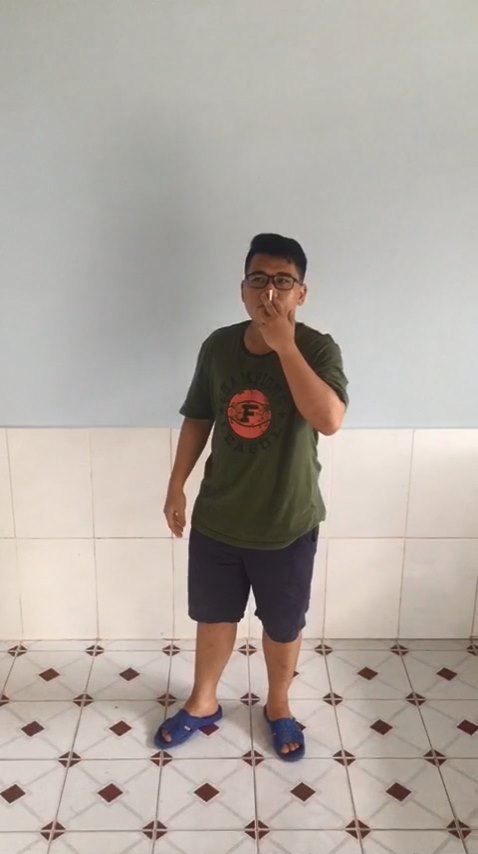cigarette: (267, 284, 280, 313)
person: (131, 202, 379, 795)
